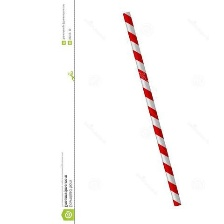drinking_straw: (117, 7, 187, 211)
